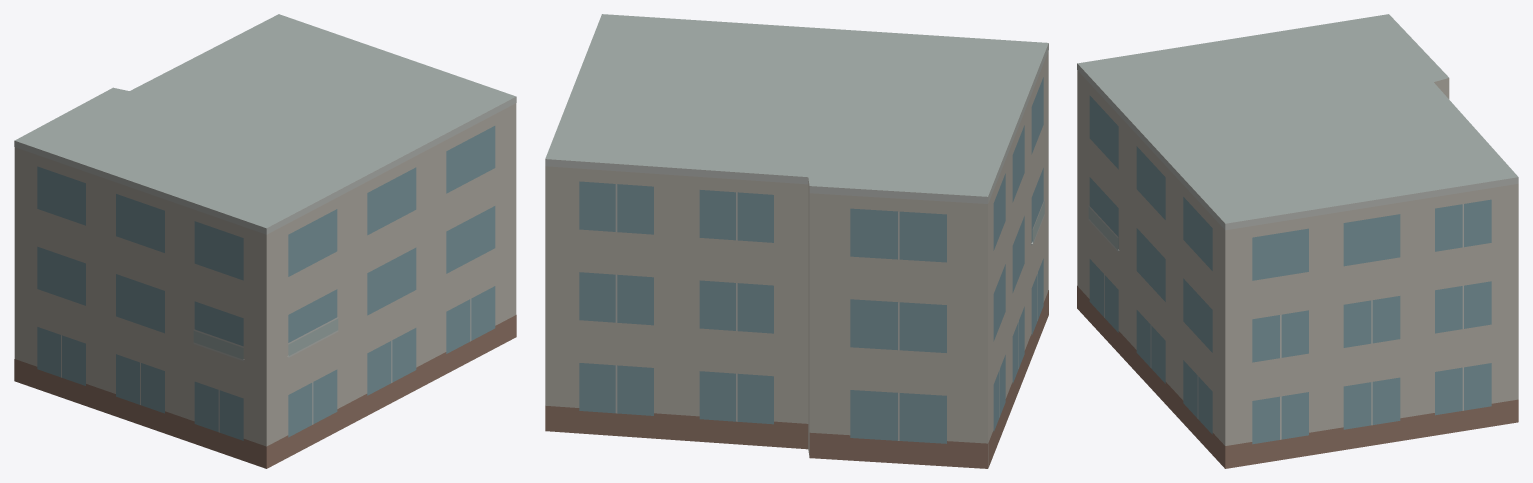
Rendered from survey-upis-32516163.glb.
3 views of the same model, side by side, from view 1: azimuth 30°, elevation 25°; view 2: azimuth 150°, elevation 25°; view 3: azimuth 270°, elevation 25° (orthographic). The views are drawn at different scales.
Visible parts, largest first — view 1: survey-upis-32516163.tmp; view 2: survey-upis-32516163.tmp; view 3: survey-upis-32516163.tmp.
Part boxes in pixels (<box>): survey-upis-32516163.tmp: <box>14,14,516,468</box>; survey-upis-32516163.tmp: <box>545,14,1048,468</box>; survey-upis-32516163.tmp: <box>1077,14,1518,468</box>.
Size of the model in its own units: 16.8 by 9.15 by 14.94.
